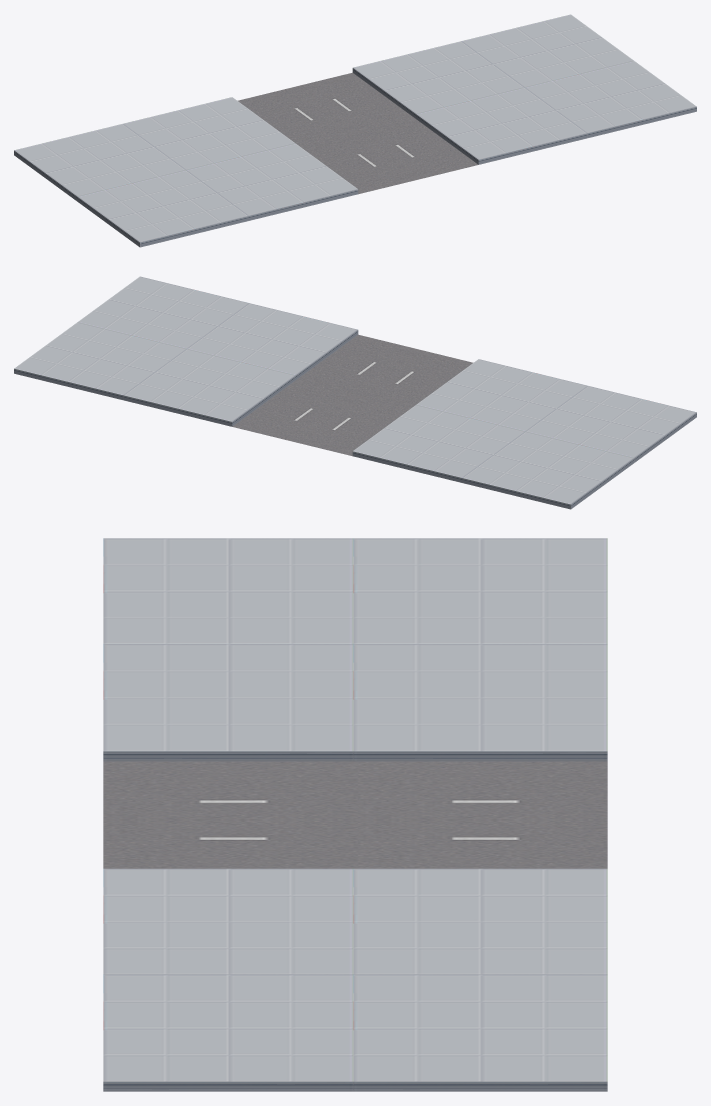
3 renders of one model, top to bottom at view 1: azimuth 30°, elevation 25°; view 2: azimuth 150°, elevation 25°; view 3: azimuth 270°, elevation 25°, orthographic. The views are drawn at different scales.
Visible parts, largest first — view 1: dimian01, dimian, gonglu; view 2: dimian, dimian01, gonglu; view 3: dimian, dimian01, gonglu.
Part boxes in pixels (x1,y1,x2,y2): dimian01: [14, 97, 358, 247]; dimian: [352, 14, 696, 164]; gonglu: [237, 72, 478, 194]; dimian: [14, 276, 358, 426]; dimian01: [352, 359, 696, 509]; gonglu: [232, 334, 473, 456]; dimian: [103, 868, 607, 1091]; dimian01: [103, 538, 607, 761]; gonglu: [103, 761, 607, 868].
Size of the model in its own units: 1.12 by 0.00955 by 0.4379.
2 materials, 2 textured.
